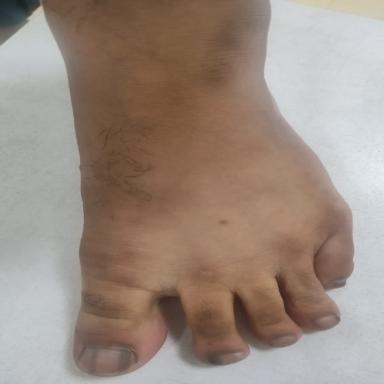normal skin: (42, 0, 353, 376)
